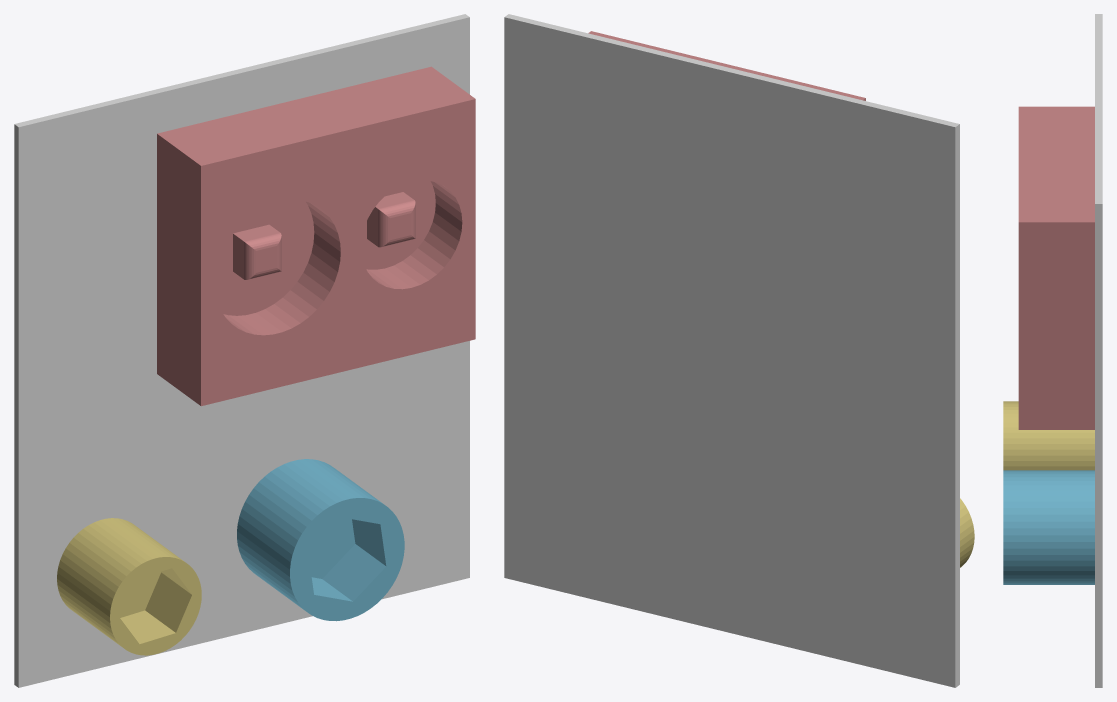
File: pickup_layout.glb
The picture shows the model from 3 angles, left to right: view 1: azimuth 30°, elevation 25°; view 2: azimuth 150°, elevation 25°; view 3: azimuth 270°, elevation 25°; orthographic projection. The views are drawn at different scales.
Parts seen in each view (by area): view 1: world, 0.obj, 2.obj, 1.obj; view 2: world, 0.obj, 1.obj; view 3: 0.obj, 2.obj, world, 1.obj.
Part boxes in pixels (<box>): world: <box>14,14,469,687</box>; 0.obj: <box>157,66,475,406</box>; 2.obj: <box>237,459,404,621</box>; 1.obj: <box>57,518,201,655</box>; world: <box>504,14,959,687</box>; 0.obj: <box>588,31,865,100</box>; 1.obj: <box>960,498,974,567</box>; 0.obj: <box>1018,106,1094,429</box>; 2.obj: <box>1003,470,1094,584</box>; world: <box>1095,14,1102,687</box>; 1.obj: <box>1003,401,1094,470</box>.
Bounding box in the file's own units: 11.79 × 14 × 2.6.
